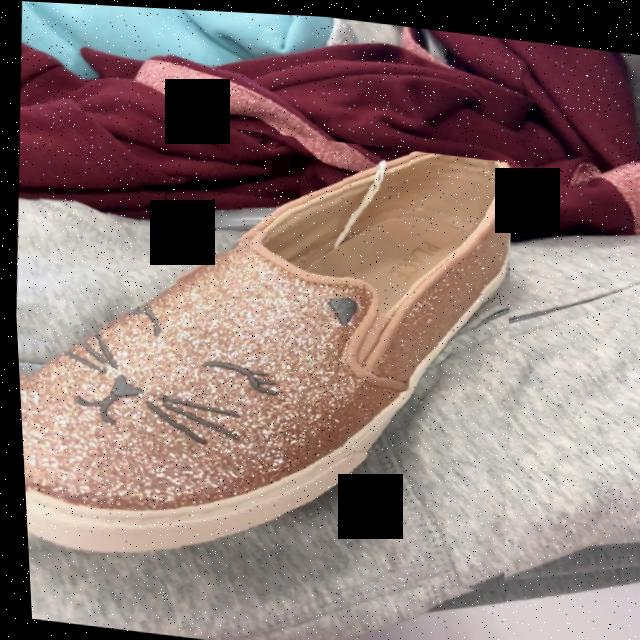shoe: (18, 147, 509, 555)
